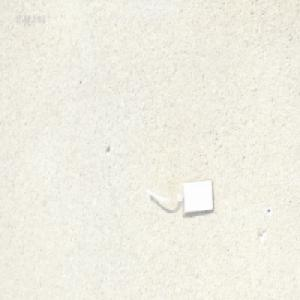LuggageTag: (144, 177, 214, 217)
